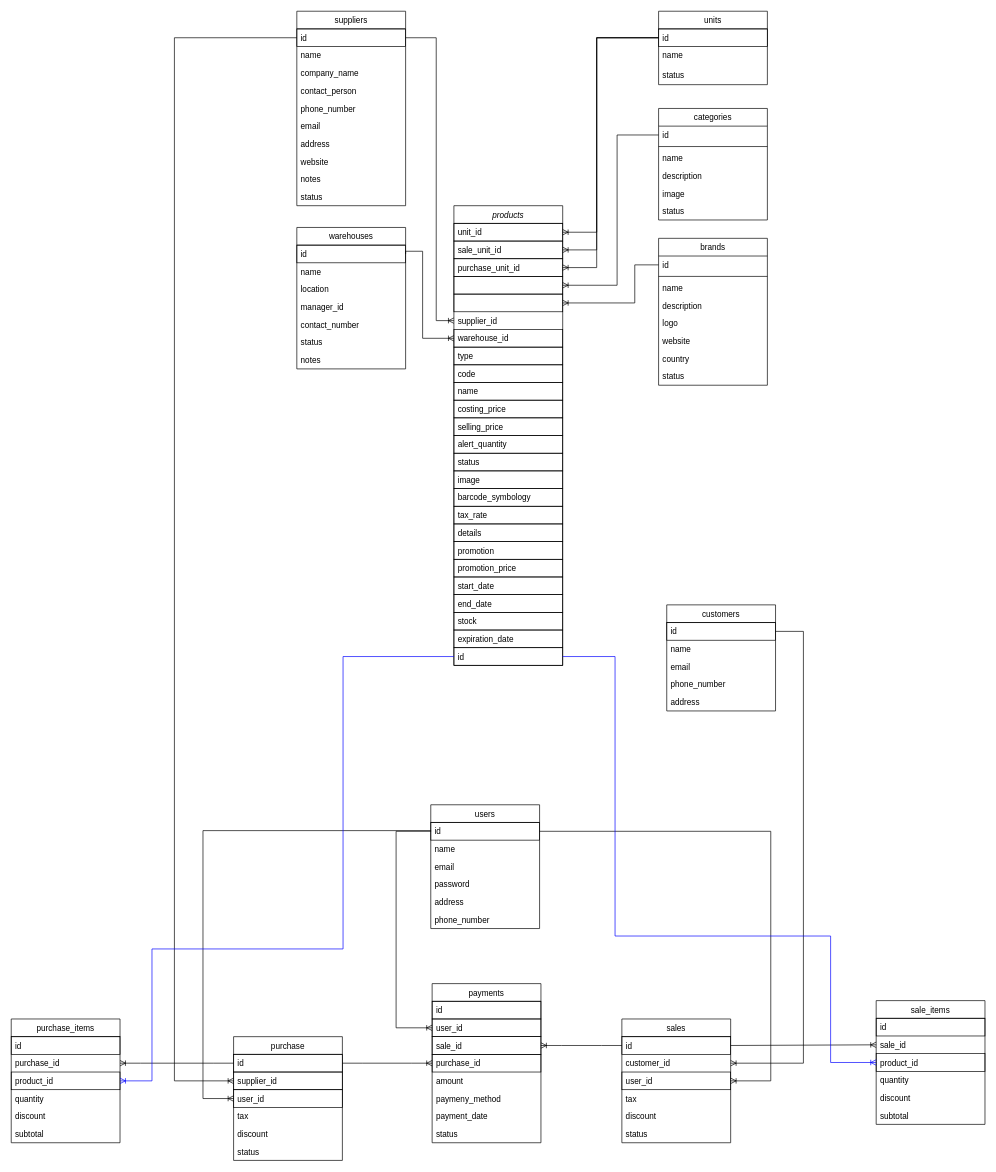
Some shapes in this 996 by 1172 pixel diagram are drawn without their labels. The centre of each missing label's shape, as x and y in pixels:
brand_id: point 508,302
category_id: point 508,285
